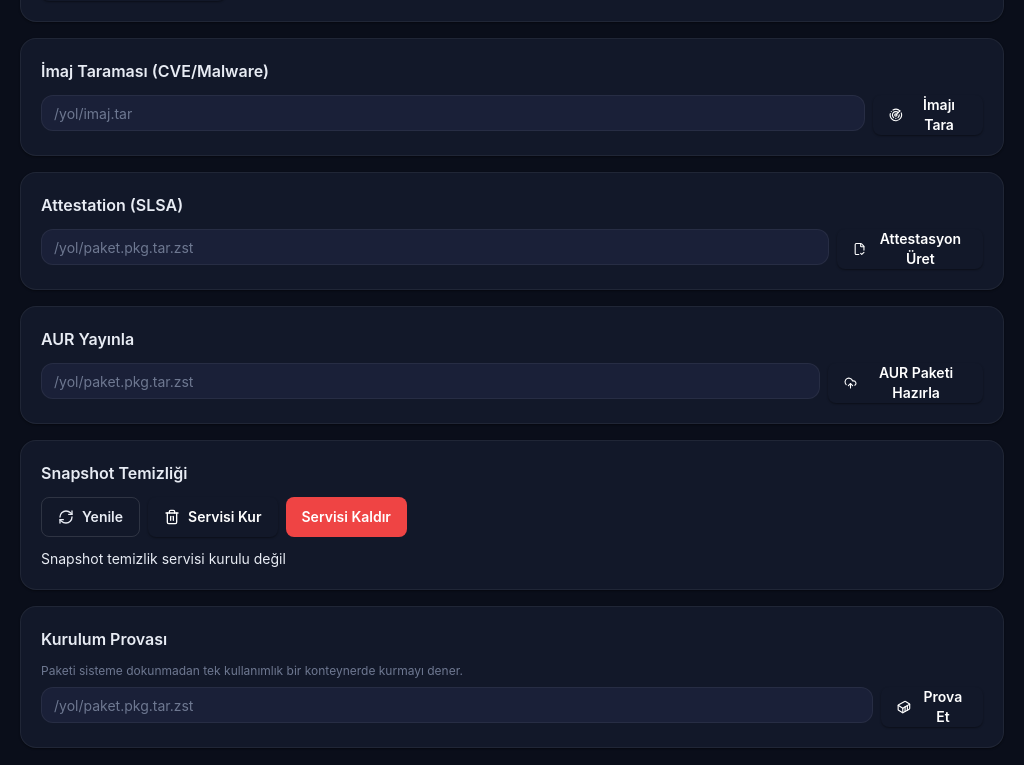
Test: Tools page handler error paths and snapshot status branches › handlePublish RPC error toasts the message
(page scrolled)
In the field with placeholder "/yol/paket.pkg.tar.zst" below "AUR Yayınla": {"x": 431, "y": 381} [41, 363, 820, 399], type "/tmp/p.pkg.tar.zst"
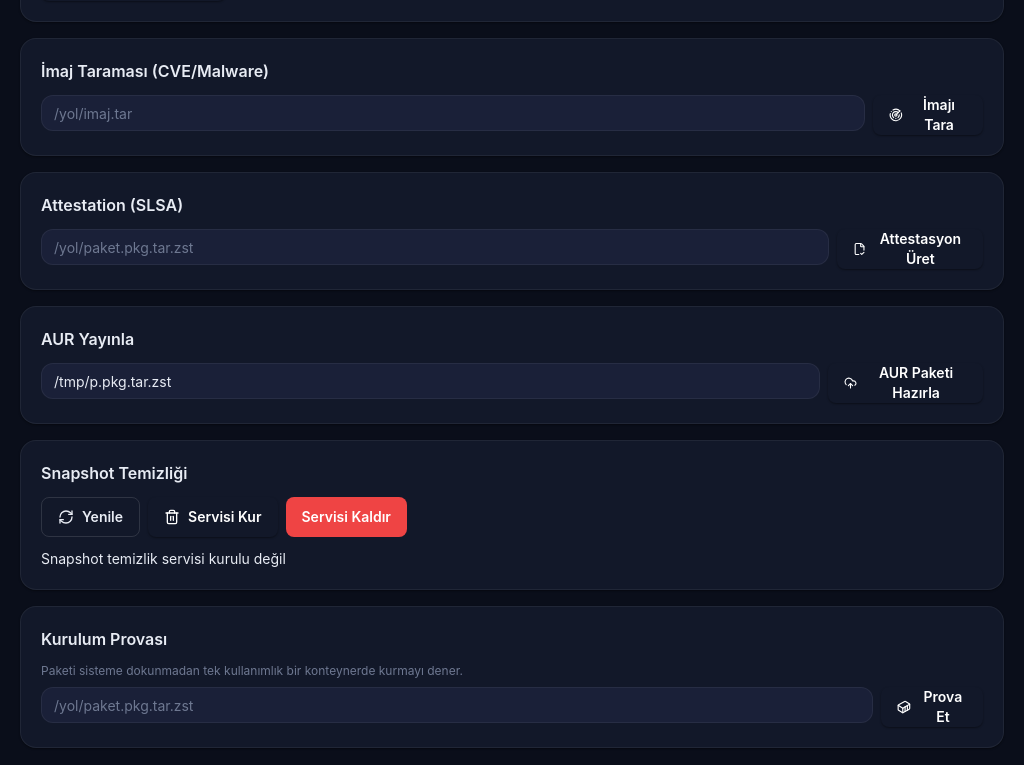
Click the button "AUR Paketi Hazırla": {"x": 906, "y": 383} [828, 363, 983, 403]
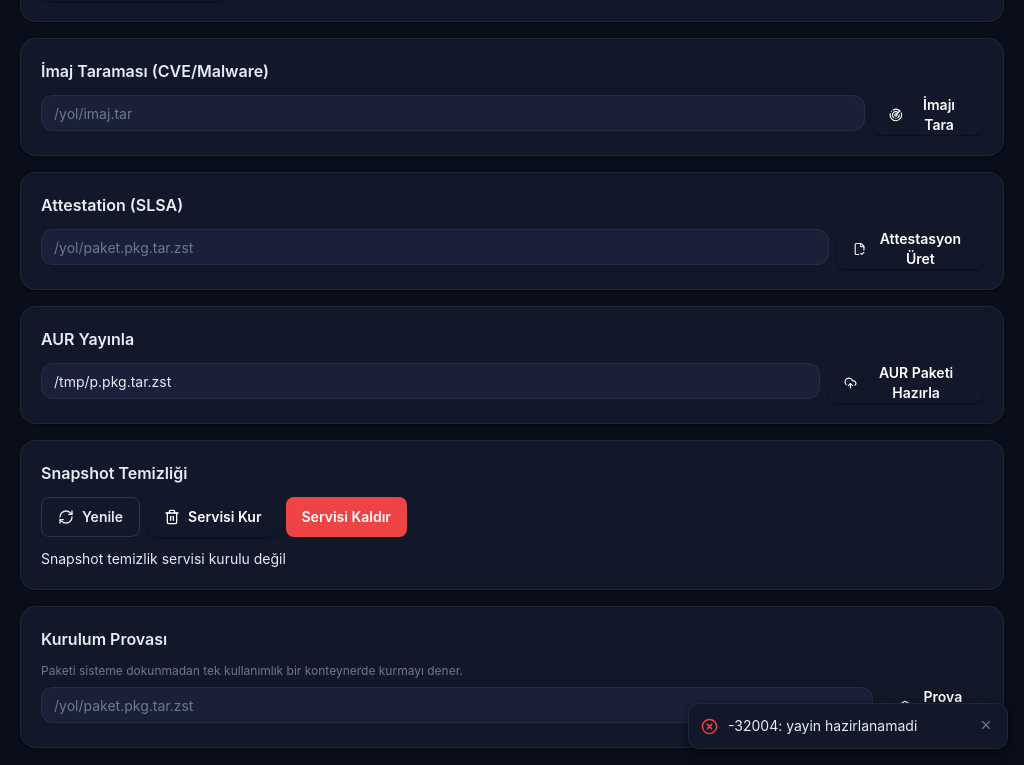
Expected: the text "-32004: yayin hazirlanamadi" is shown, [728, 717, 917, 734]
